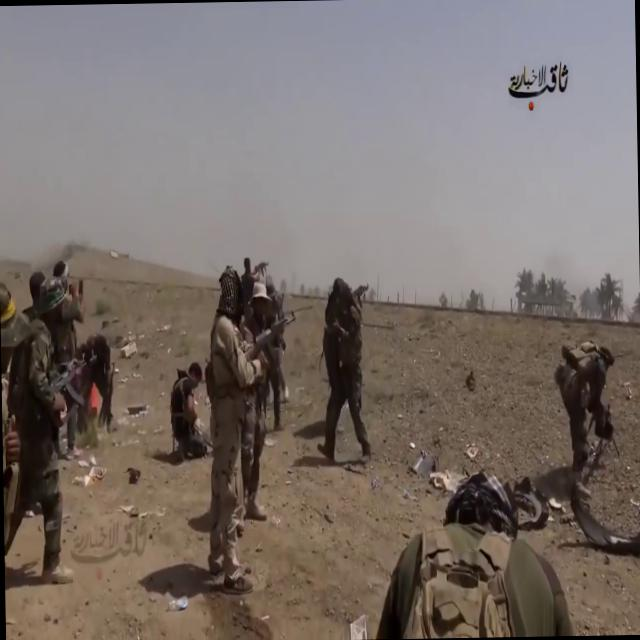long weapon: (225, 298, 308, 382), (44, 346, 105, 422), (592, 401, 620, 456), (347, 280, 381, 314)
